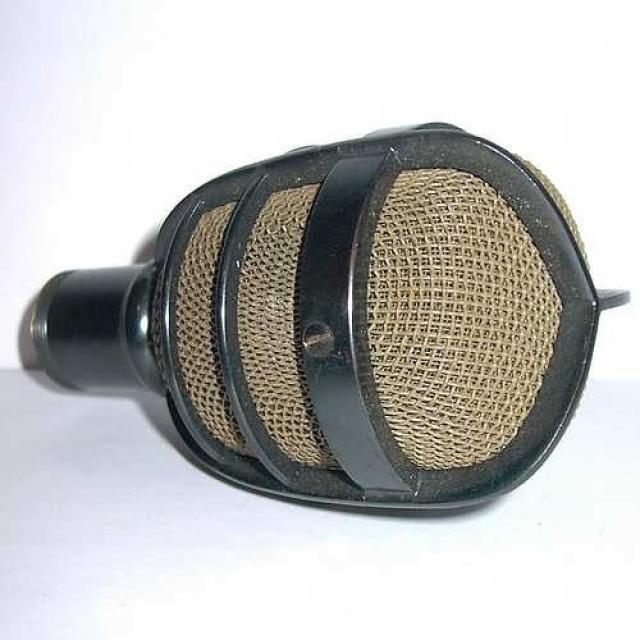microphone: (35, 122, 630, 508)
